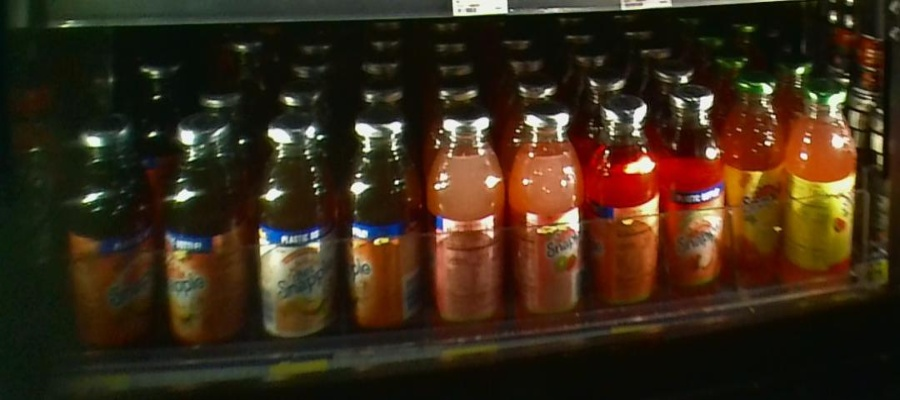bottle: (60, 108, 159, 369), (160, 103, 248, 369), (338, 108, 427, 358), (253, 111, 338, 363), (428, 100, 508, 342), (510, 98, 587, 343), (786, 72, 859, 296), (591, 92, 661, 323), (661, 88, 727, 318), (728, 73, 786, 288)
